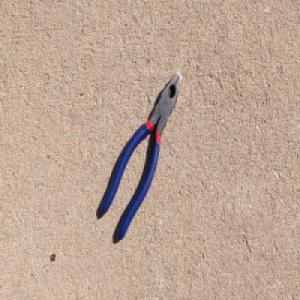Pliers: (100, 67, 182, 241)
